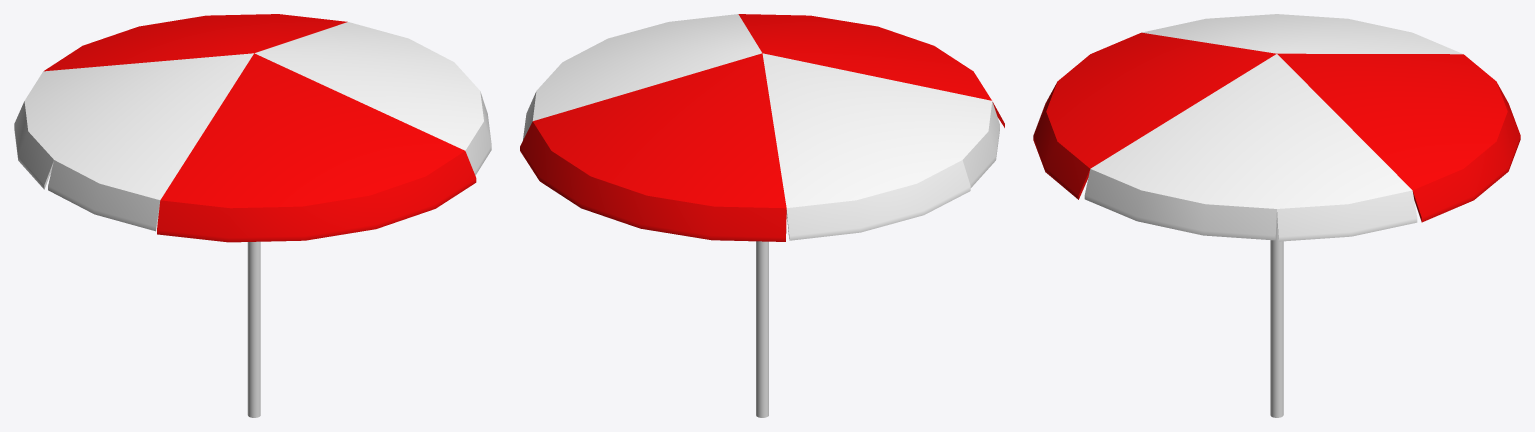
The model's file is Umbrella.glb.
The picture shows the model from 3 angles, left to right: view 1: azimuth 30°, elevation 25°; view 2: azimuth 150°, elevation 25°; view 3: azimuth 270°, elevation 25°; orthographic projection.
Parts seen in each view (by area): view 1: Umbrella; view 2: Umbrella; view 3: Umbrella.
Boxes of the visible parts, box(x1,y1,x2,y2) form: Umbrella: box(14, 14, 491, 417); Umbrella: box(520, 14, 1004, 417); Umbrella: box(1033, 14, 1520, 417).
Bounding box in the file's own units: 0.0185 × 0.0153 × 0.0187.
